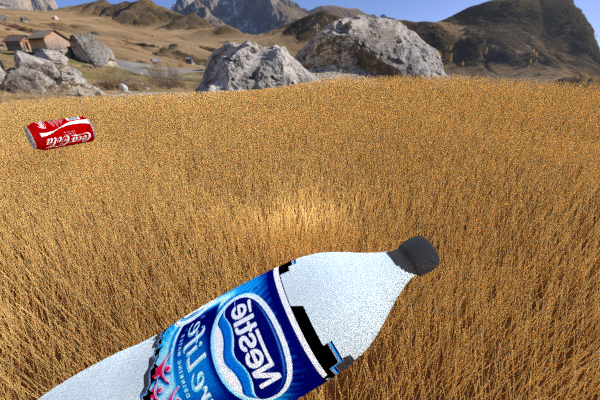bottle: (0, 235, 439, 400)
can: (23, 116, 95, 150), (556, 345, 600, 400)
